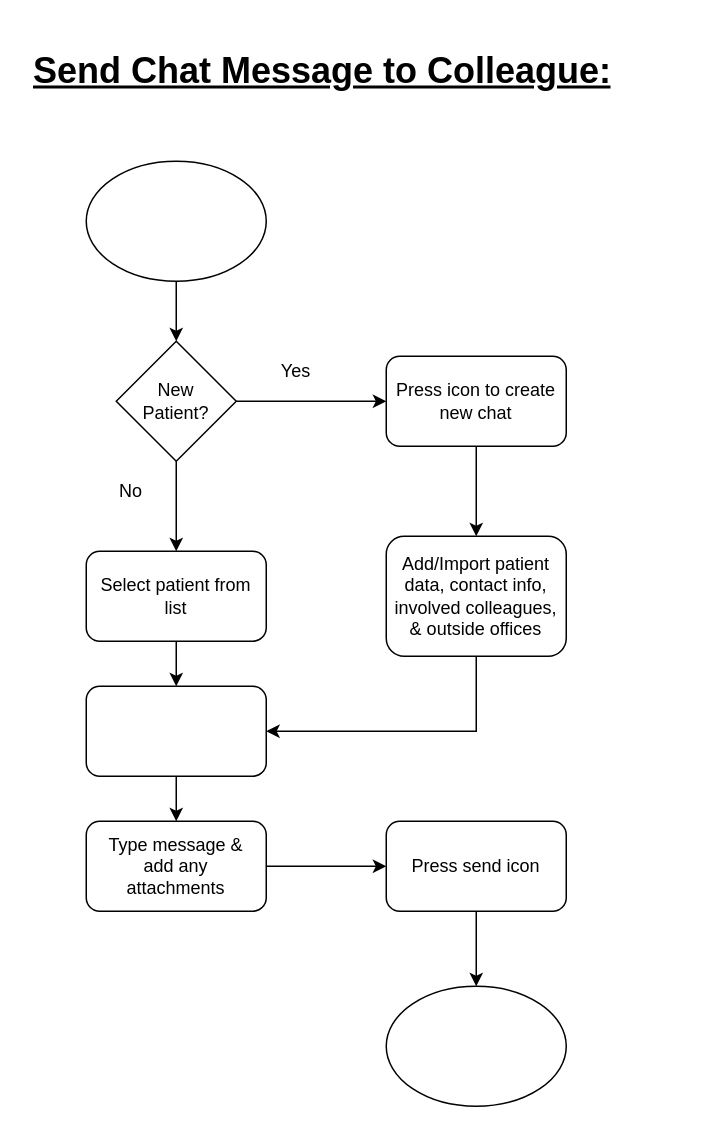
This 711x1133 diagram has some shape labels left out. Each missing label, with the centre of its shape:
Home Screen: (175,220)
Message sent to colleagues: (475,1045)
Navigate to "Team Chat": (175,730)
